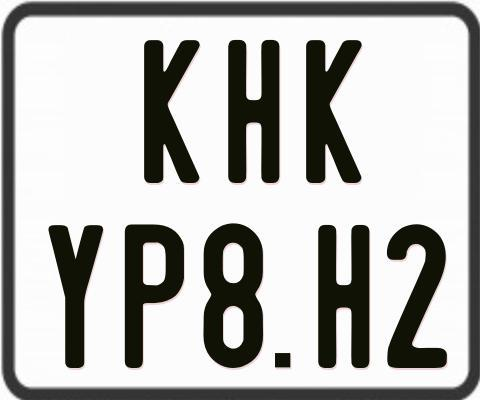2: (386, 222, 452, 371)
8: (201, 223, 265, 371)
H: (227, 39, 280, 185), (317, 222, 369, 365)
K: (303, 37, 362, 186), (143, 39, 203, 184)
P: (123, 225, 184, 369)
Y: (48, 223, 103, 366)
